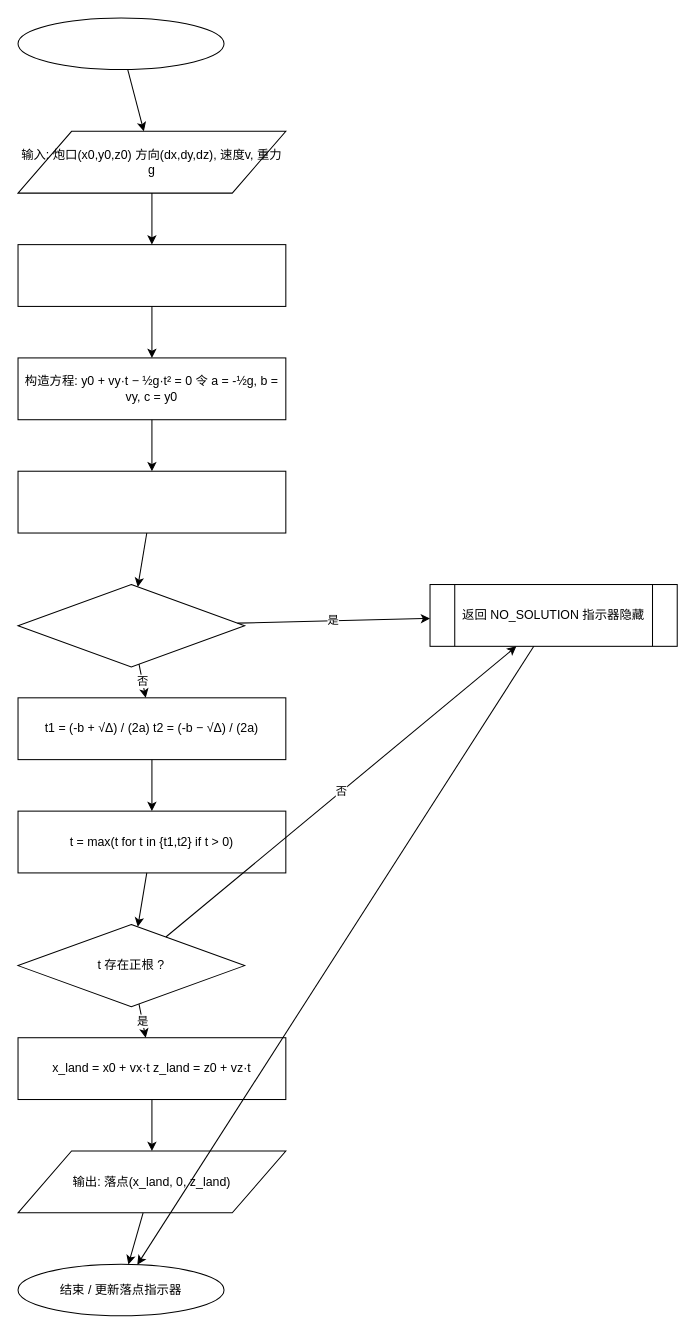
Some shapes in this 695 by 1334 pixel diagram are drawn without their labels. The shapes that lost their labels are listed below. From the top down, each one's box as (x1, y1, x2, y2) in pixels, then its label:
(17, 17, 224, 70): 开始 / 炮管角度变化
(17, 244, 286, 306): vx = dx·v; vy = dy·v; vz = dz·v
(17, 470, 286, 533): 判别式 Δ = b² − 4ac
(17, 583, 245, 667): Δ < 0 ?
